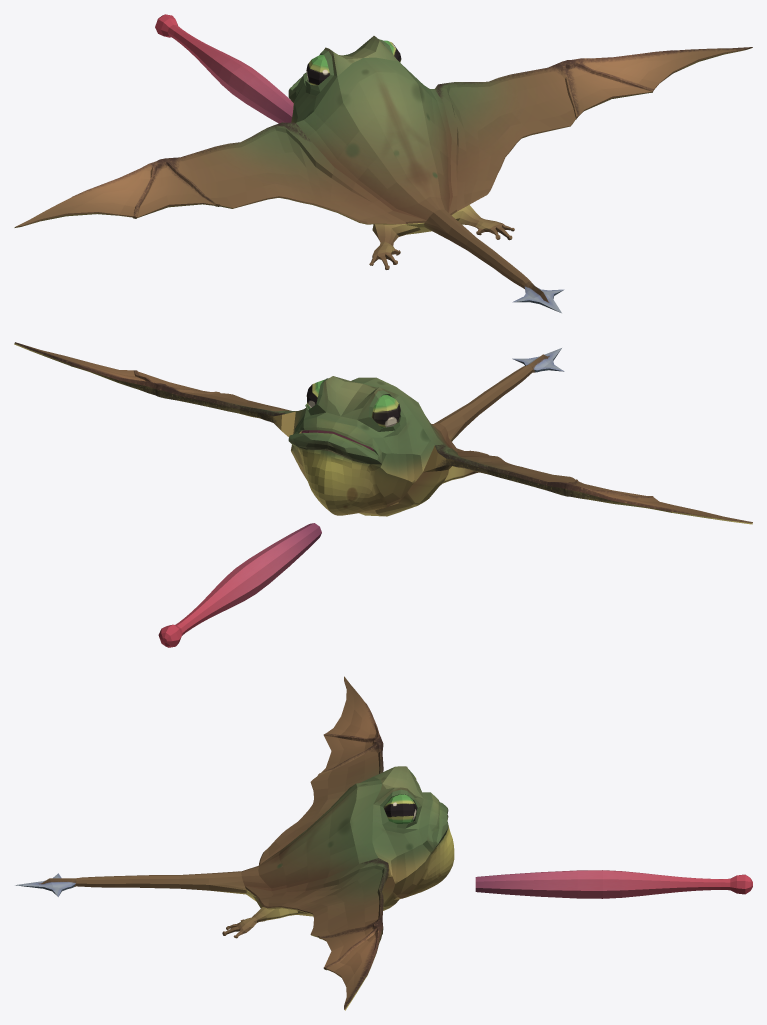
The model's file is FrogModel.fbx.
3 renders of one model, top to bottom at view 1: azimuth 30°, elevation 25°; view 2: azimuth 150°, elevation 25°; view 3: azimuth 270°, elevation 25°, orthographic. The views are drawn at different scales.
Visible parts, largest first — view 1: BODY, TONGUE, L_EYE; view 2: BODY, TONGUE, Throat, L_EYE; view 3: BODY, TONGUE, Throat, R_EYE.
Part boxes in pixels (bbox=[...]): BODY: bbox=[14, 36, 752, 313]; TONGUE: bbox=[155, 14, 293, 123]; L_EYE: bbox=[306, 54, 330, 85]; BODY: bbox=[14, 342, 752, 524]; TONGUE: bbox=[158, 523, 321, 647]; Throat: bbox=[297, 447, 386, 515]; L_EYE: bbox=[371, 395, 400, 427]; BODY: bbox=[15, 676, 448, 1010]; TONGUE: bbox=[475, 870, 752, 898]; Throat: bbox=[402, 823, 454, 898]; R_EYE: bbox=[384, 794, 416, 823].
Size of the model in its own units: 2360 by 454 by 2212.
2 materials, 2 textured.
